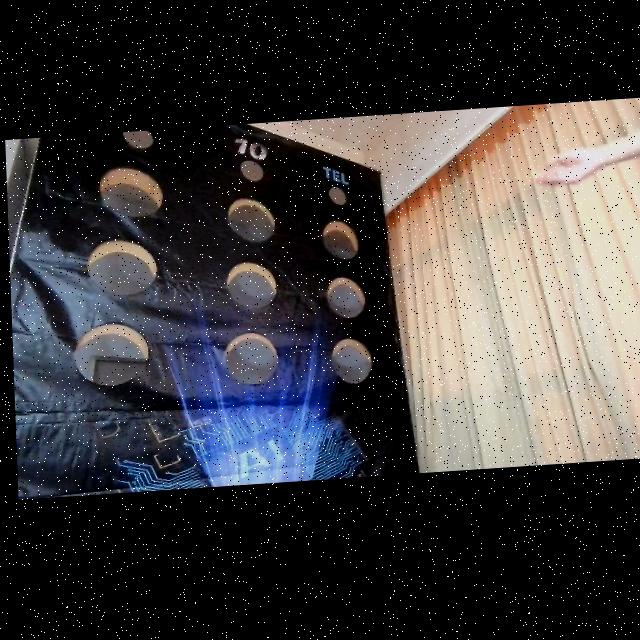hole: (74, 321, 150, 389), (87, 238, 159, 299), (99, 165, 163, 219), (222, 330, 279, 385), (227, 260, 278, 311), (228, 196, 276, 244), (332, 338, 373, 385), (326, 276, 364, 319), (322, 220, 359, 261), (123, 122, 154, 150), (241, 160, 263, 182), (329, 186, 347, 206)
